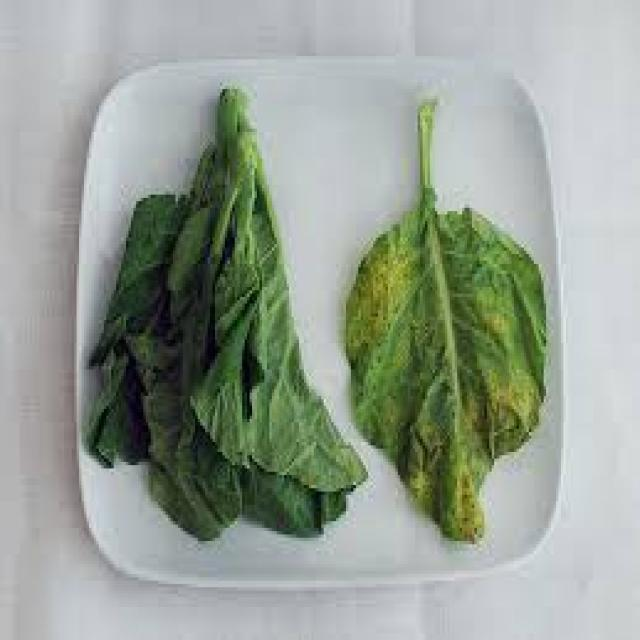biodegradable: (341, 96, 549, 541), (245, 172, 366, 488), (128, 304, 235, 541), (84, 181, 193, 363), (193, 178, 259, 469), (161, 129, 235, 313), (232, 462, 346, 531), (84, 350, 148, 469), (213, 86, 252, 162)
